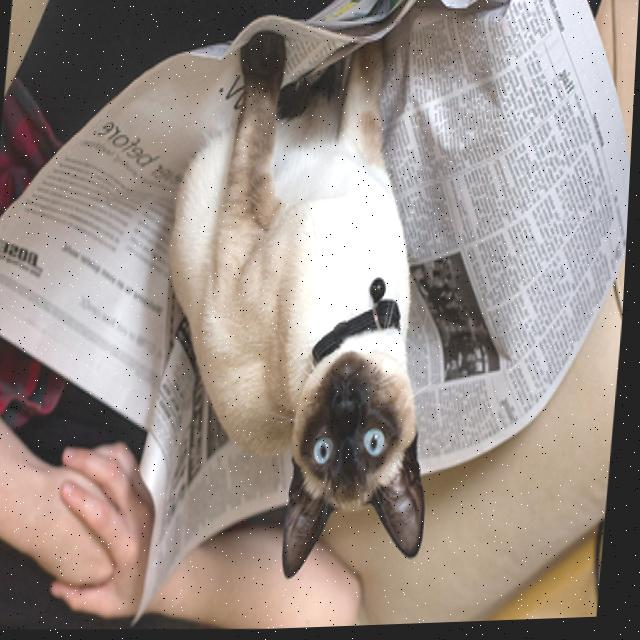Siamese: (141, 17, 472, 592)
